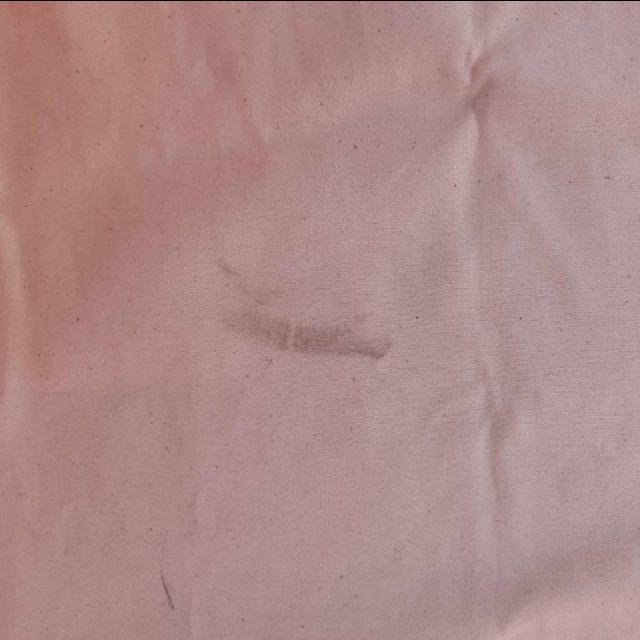taaaches: (210, 255, 410, 389), (142, 562, 188, 625)
